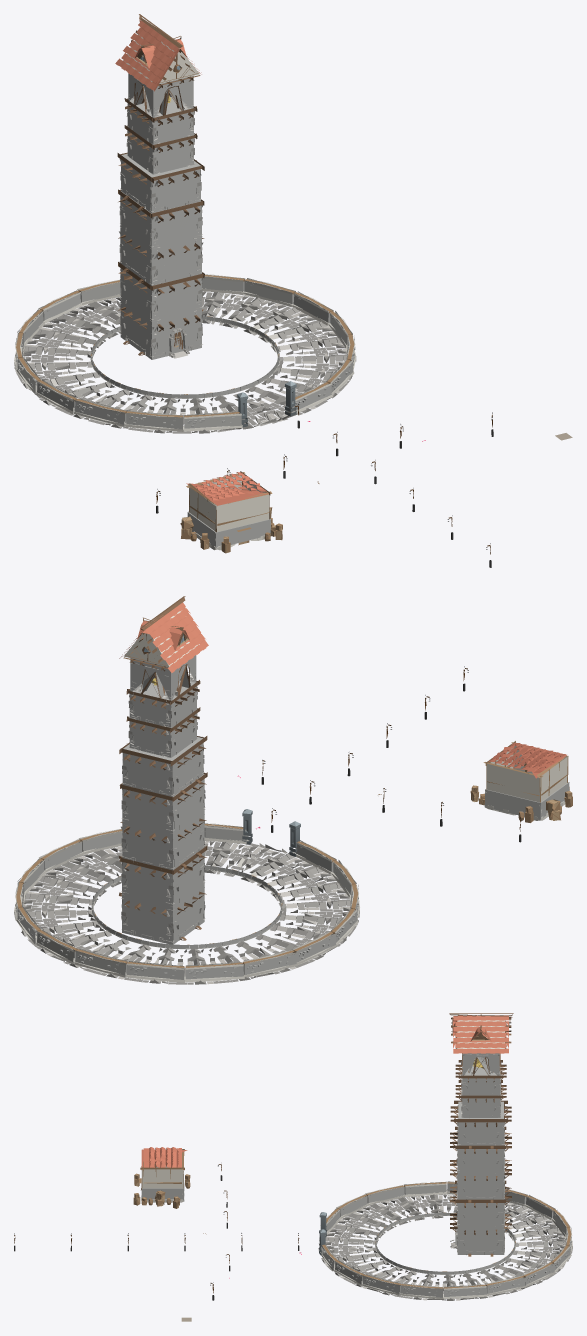
The model's file is chunk_1_2_lod1.glb.
3 renders of one model, top to bottom at view 1: azimuth 30°, elevation 25°; view 2: azimuth 150°, elevation 25°; view 3: azimuth 270°, elevation 25°, orthographic. The views are drawn at different scales.
Visible parts, largest first — view 1: Batched_Chunk_1_2.001; view 2: Batched_Chunk_1_2.001; view 3: Batched_Chunk_1_2.001.
Boxes of the visible parts, x1,y1,x2,y2 form: Batched_Chunk_1_2.001: [14, 14, 572, 567]; Batched_Chunk_1_2.001: [14, 596, 572, 984]; Batched_Chunk_1_2.001: [14, 1013, 572, 1321].
Size of the model in its own units: 68.4 by 51.63 by 112.
Materials: 23 (1 with a texture image).
